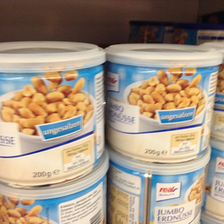nuts: (1, 40, 107, 189), (106, 42, 224, 163), (106, 146, 211, 224)
